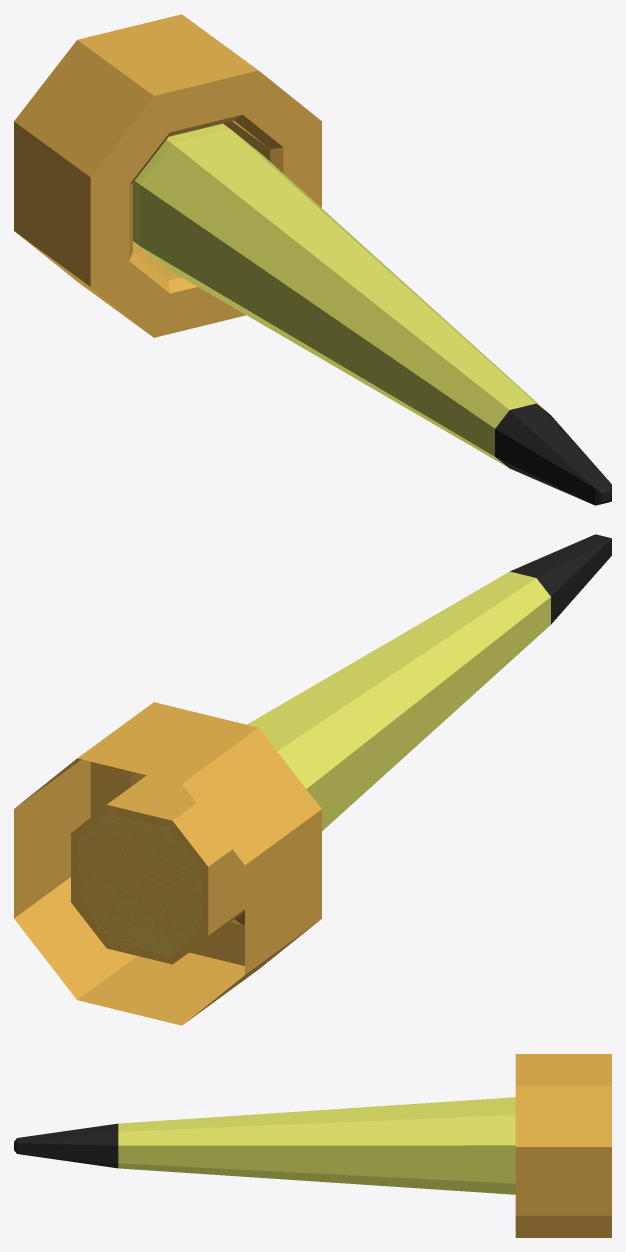
The model's file is Dart.fbx.
3 renders of one model, top to bottom at view 1: azimuth 30°, elevation 25°; view 2: azimuth 150°, elevation 25°; view 3: azimuth 270°, elevation 25°, orthographic. The views are drawn at different scales.
Visible parts, largest first — view 1: Dart_Arrow, Dart_Hole; view 2: Dart_Hole, Dart_Arrow; view 3: Dart_Arrow, Dart_Hole.
Part boxes in pixels (x1,y1,x2,y2): Dart_Arrow: [133, 123, 611, 505]; Dart_Hole: [14, 14, 321, 337]; Dart_Hole: [14, 702, 321, 1025]; Dart_Arrow: [78, 534, 611, 955]; Dart_Arrow: [14, 1097, 515, 1194]; Dart_Hole: [515, 1054, 611, 1237].
Size of the model in its own units: 0.125 by 0.125 by 0.4465.
